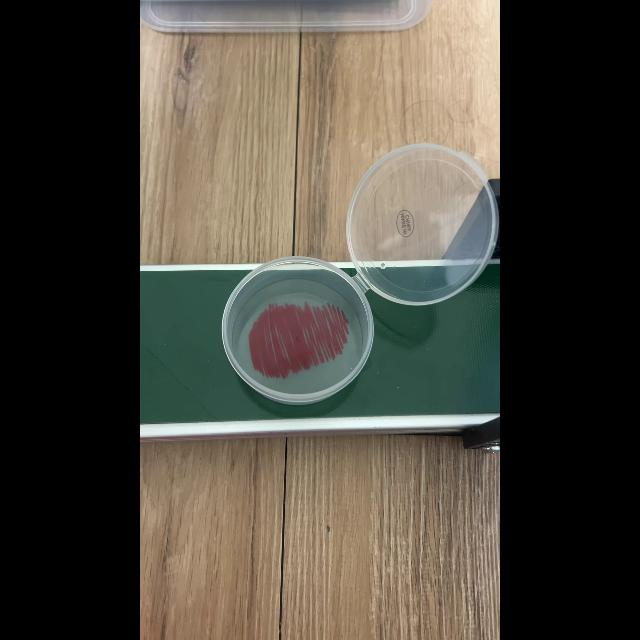dirty: (227, 276, 369, 398)
